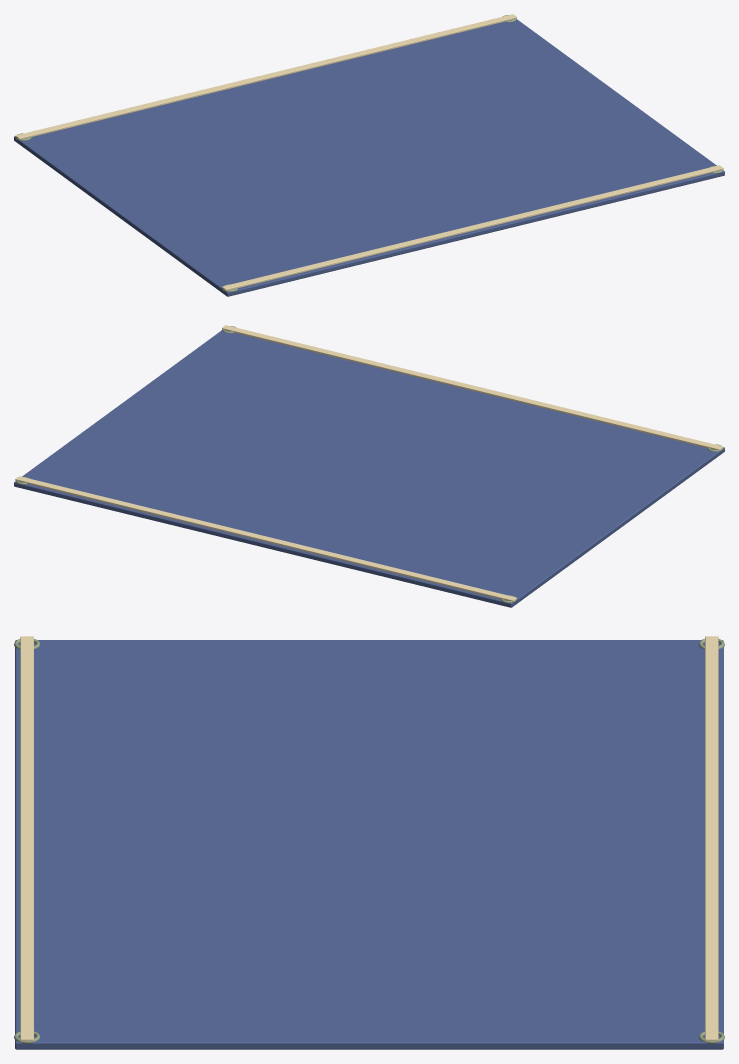
The model's file is desert-caravanserai-and-bazaar-awning-sail-7d52c317__30489.glb.
The picture shows the model from 3 angles, top to bottom: view 1: azimuth 30°, elevation 25°; view 2: azimuth 150°, elevation 25°; view 3: azimuth 270°, elevation 25°; orthographic projection. The views are drawn at different scales.
Parts seen in each view (by area): view 1: awning-sail; view 2: awning-sail; view 3: awning-sail.
Boxes of the visible parts, x1,y1,x2,y2 form: awning-sail: [14, 14, 724, 296]; awning-sail: [14, 325, 724, 607]; awning-sail: [14, 636, 724, 1049].
Bounding box in the file's own units: 3.91 × 0.0502 × 2.91.
